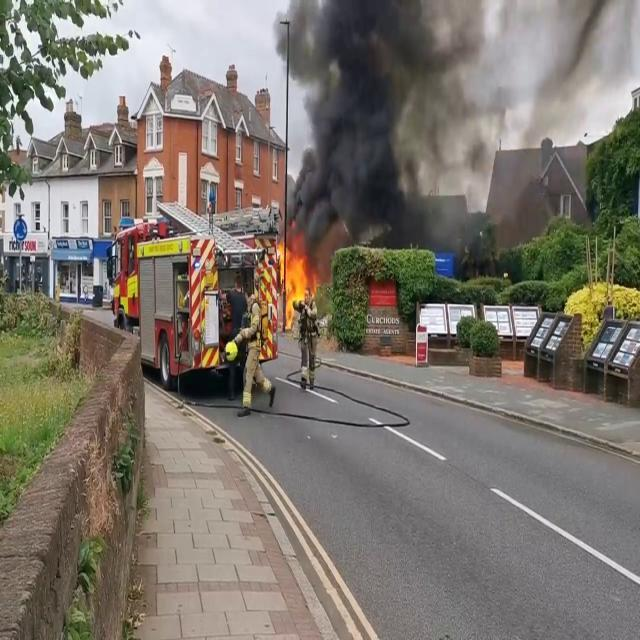Fire: (276, 236, 314, 320)
Smoke: (281, 0, 482, 252), (522, 0, 640, 146)
